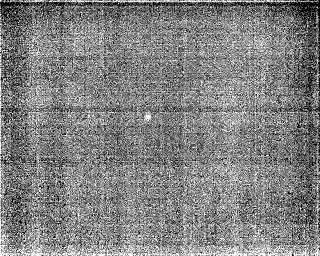BIRD: (143, 111, 153, 122)
